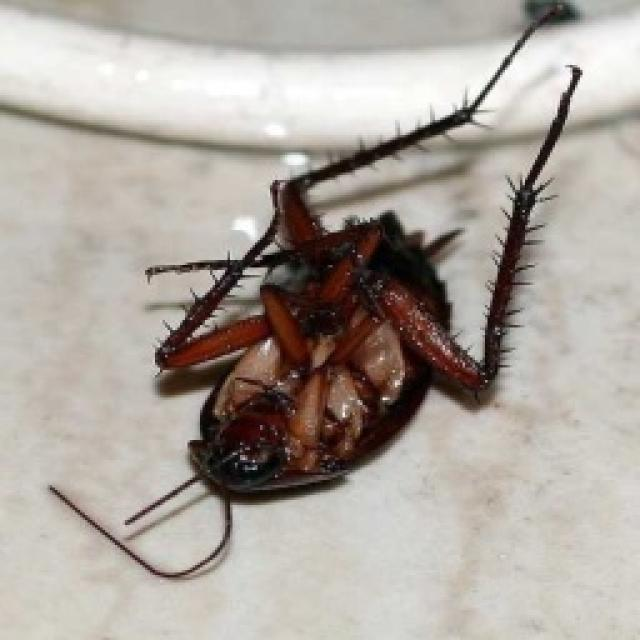cockroach: (44, 6, 589, 584)
